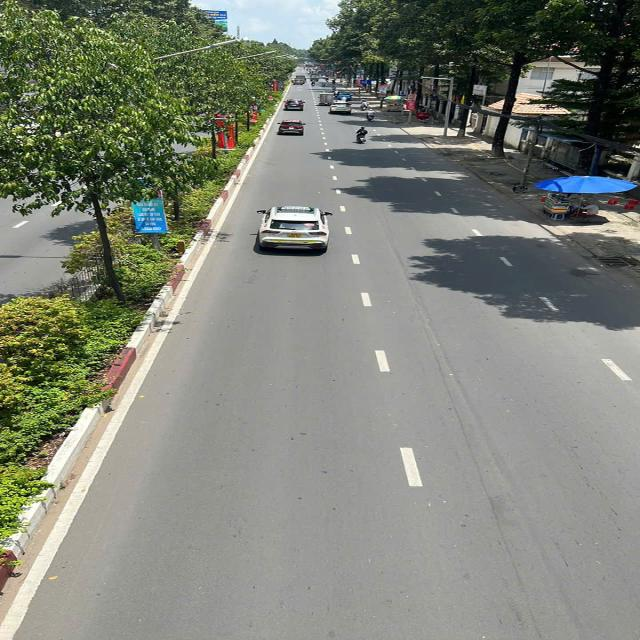Truck: (318, 94, 334, 106), (309, 74, 321, 83)
car: (259, 205, 332, 255), (281, 119, 307, 137), (331, 102, 352, 115), (285, 99, 302, 110), (337, 93, 353, 100), (292, 79, 303, 84)
motobyte: (356, 126, 367, 144), (360, 100, 368, 110), (368, 111, 374, 121), (334, 90, 339, 98)
